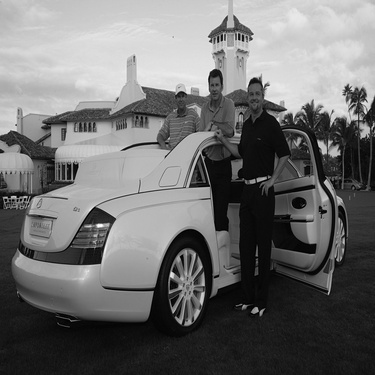car: (9, 105, 353, 335)
